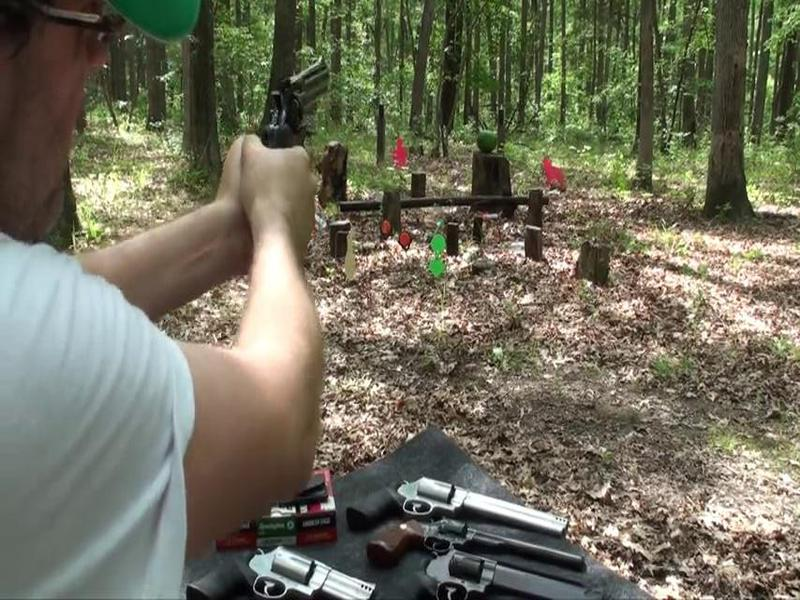Revolver: (245, 37, 342, 176)
